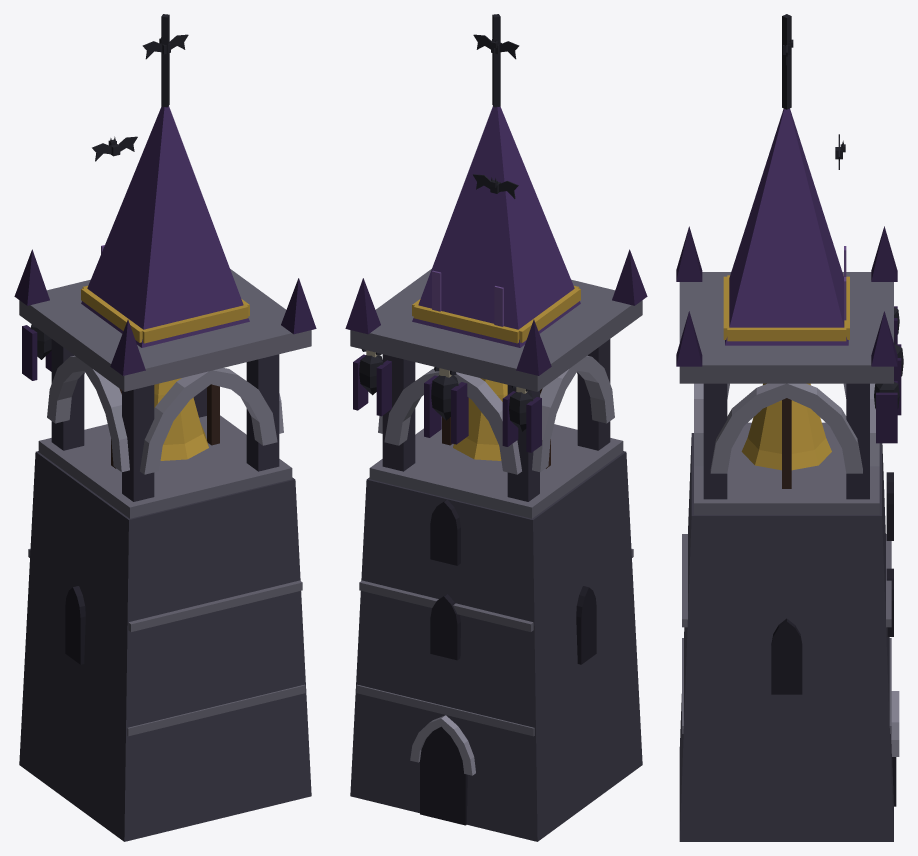
The model's file is Decor_VampireCrypt_Belfry.fbx.
3 renders of one model, left to right at view 1: azimuth 30°, elevation 25°; view 2: azimuth 150°, elevation 25°; view 3: azimuth 270°, elevation 25°, orthographic.
Parts seen in each view (by area): view 1: Belfry_Body; view 2: Belfry_Body; view 3: Belfry_Body.
Part boxes in pixels (bbox=[...]): Belfry_Body: bbox=[14, 14, 316, 841]; Belfry_Body: bbox=[345, 14, 647, 841]; Belfry_Body: bbox=[676, 14, 903, 841].
Bounding box in the file's own units: 9 × 34 × 9.
